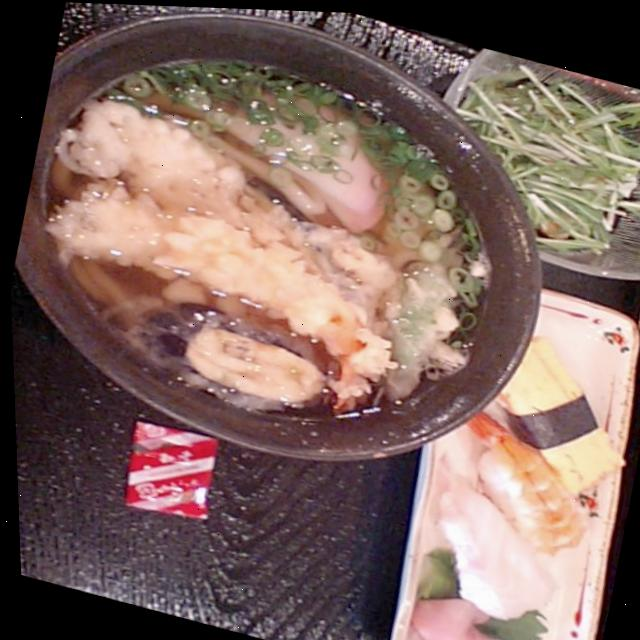面条主食: (0, 3, 539, 462)
